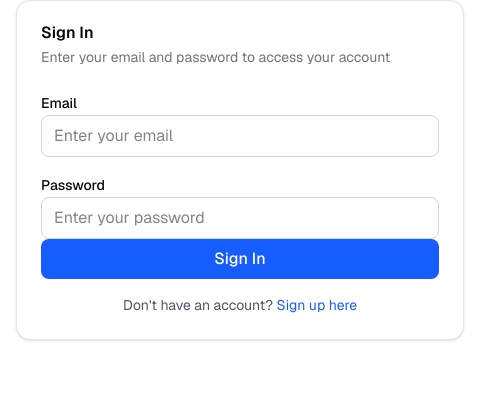
Test: Authentication Tests › LoginForm Component › handles successful login with valid credentials
This screenshot has width=481, height=420.
In the field labelled "Email": (240, 136) [41,115,439,157], type "test@example.com"
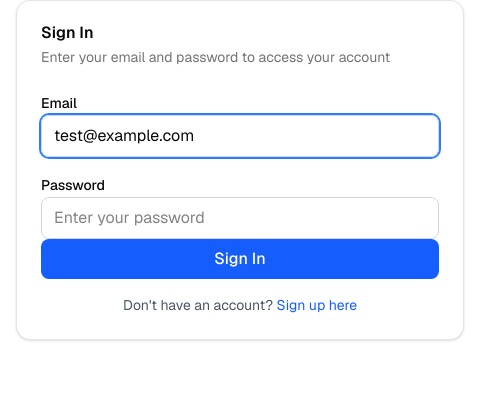
In the password field labelled "Password": (240, 218) [41,197,439,239], type "password123"
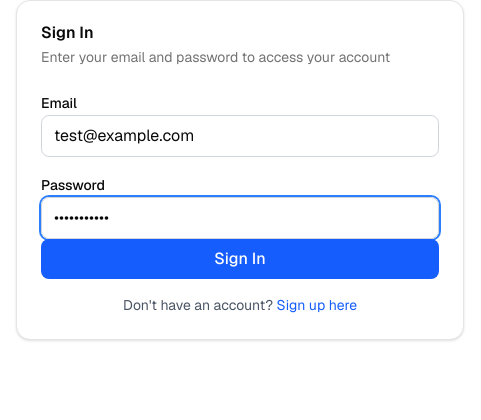
Click the button "Sign In": click(240, 259) [41,239,439,279]
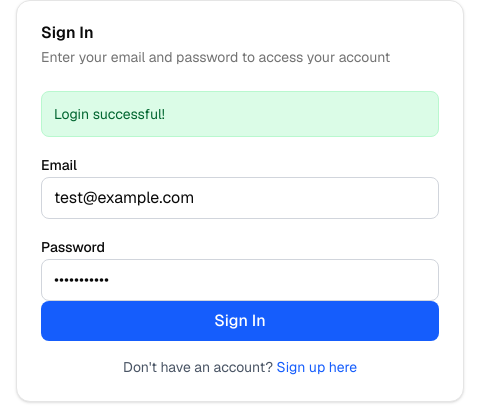
expect the text "Login successful!" is shown: met, box [41,91,439,137]
